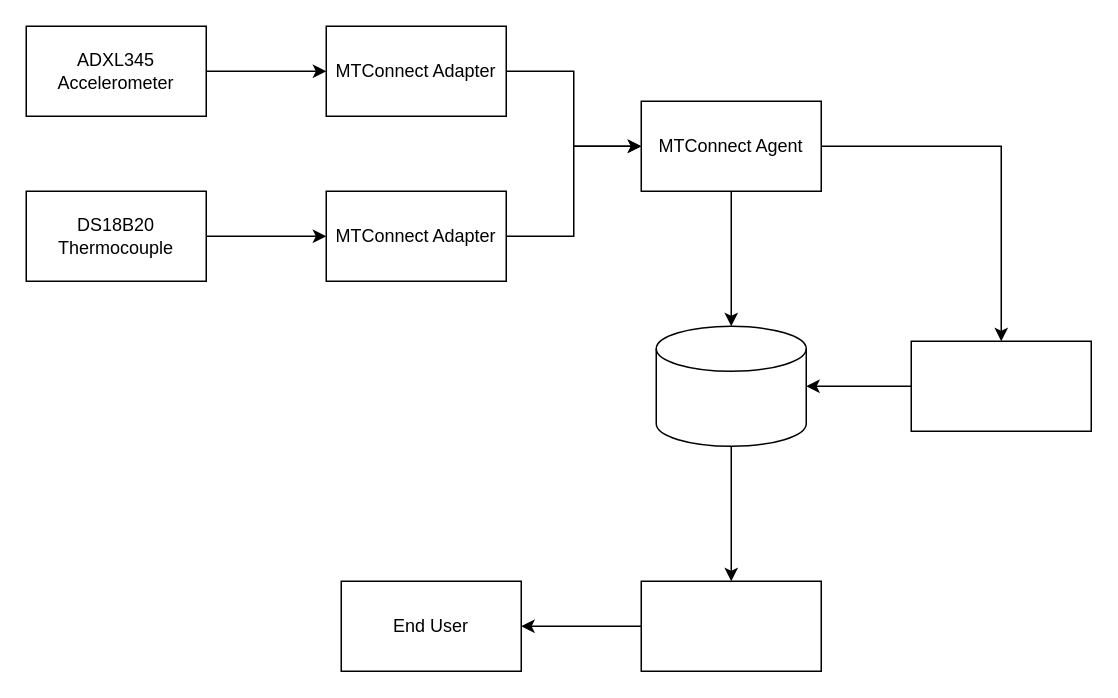
Some shapes in this 1118 by 698 pixel diagram are drawn without their labels. The shapes that lost their labels are listed below. From the top down, each one's centre as x and y in pixels, then its label:
the point at 730,385: MySQL Database
the point at 1000,385: Edge Device ML model
the point at 730,625: Frontend Dashboards
